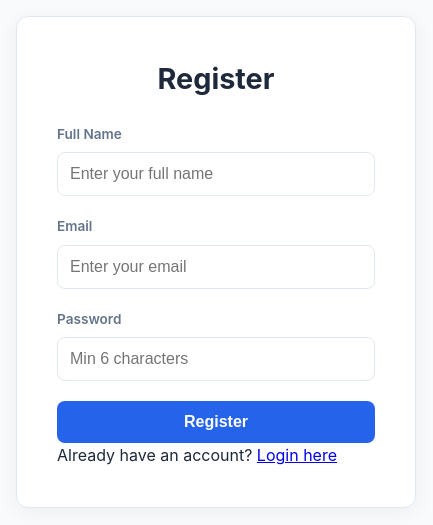
Test: Register Page › disables submit button while loading
The image size is (433, 525).
Type "John Doe" into the field with placeholder "Enter your full name" at (216, 174), box [57, 152, 375, 196]
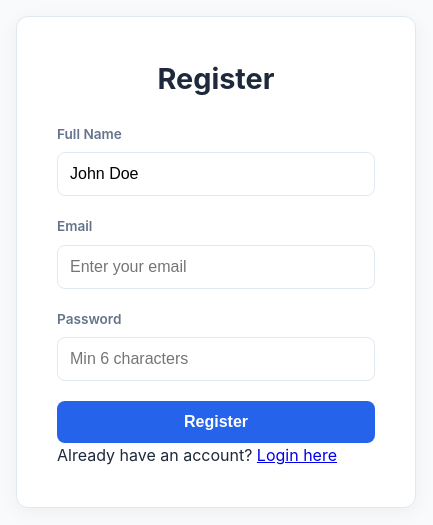
Type "john@example.com" into the field with placeholder "Enter your email" at (216, 267), box [57, 245, 375, 289]
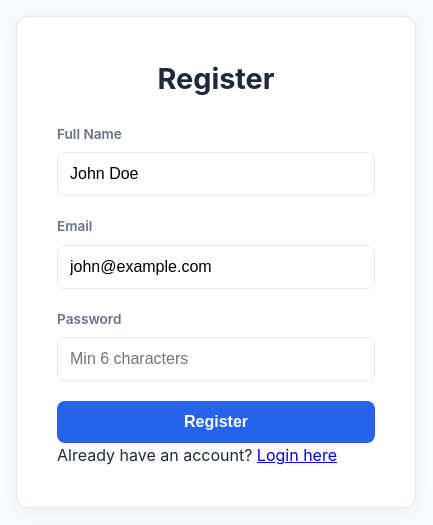
Type "password123" into the password field with placeholder "Min 6 characters" at (216, 359), box [57, 337, 375, 381]
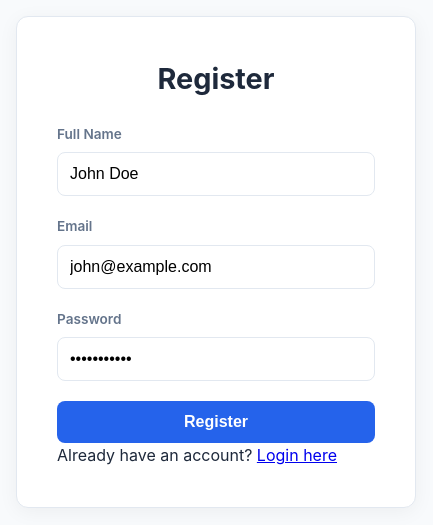
Click the button "Register" at (216, 422), box [57, 401, 375, 443]
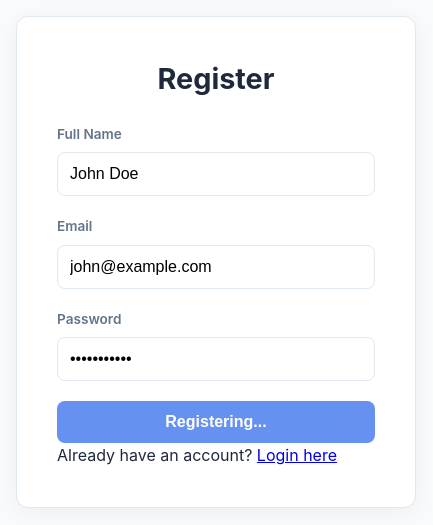
Now the button "Registering..." is disabled, box [57, 401, 375, 443]
